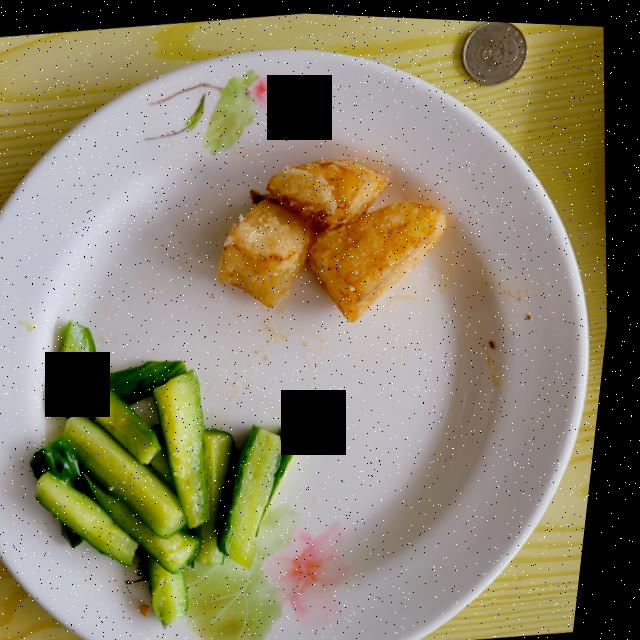coin: (461, 17, 527, 80)
cucumber: (40, 320, 313, 623)
fried potato: (223, 156, 450, 318)
